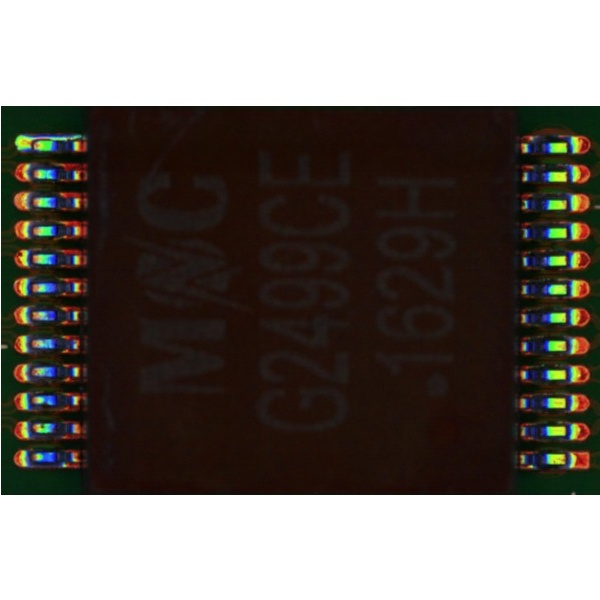Bad_podu: (25, 137, 37, 149)
Bad_qiaojiao: (37, 135, 80, 141)
